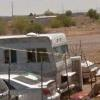Bus: (4, 27, 69, 76)
